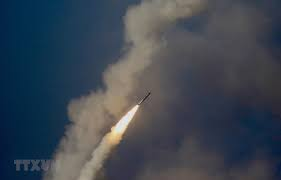ten_lua: (134, 92, 153, 106)
